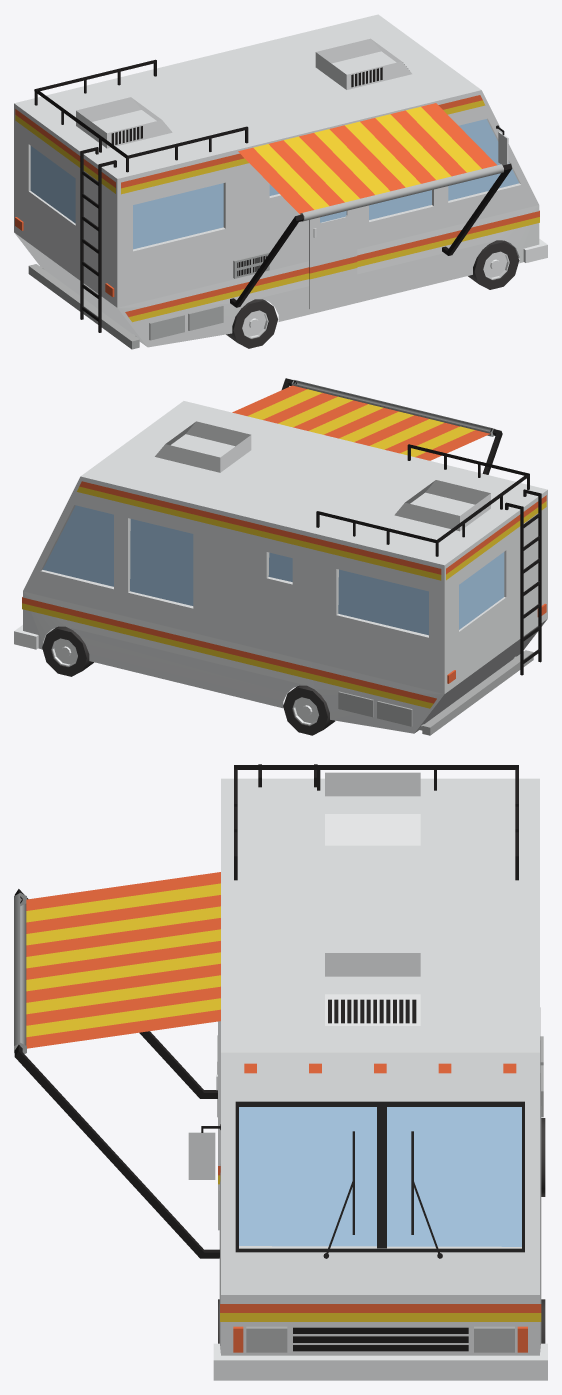
The model's file is M_fangche01.FBX.
3 renders of one model, top to bottom at view 1: azimuth 30°, elevation 25°; view 2: azimuth 150°, elevation 25°; view 3: azimuth 270°, elevation 25°, orthographic. The views are drawn at different scales.
Visible parts, largest first — view 1: M_fangche01_01, M_fangche01_02, M_fangche01_03; view 2: M_fangche01_01, M_fangche01_02, M_fangche01_03; view 3: M_fangche01_01, M_fangche01_02, M_fangche01_03.
Boxes of the visible parts, left/top/right/bottom form: M_fangche01_01: left=14, top=14, right=547, bottom=349; M_fangche01_02: left=30, top=119, right=518, bottom=249; M_fangche01_03: left=34, top=59, right=512, bottom=338; M_fangche01_01: left=14, top=385, right=547, bottom=735; M_fangche01_02: left=43, top=505, right=504, bottom=635; M_fangche01_03: left=51, top=378, right=541, bottom=725; M_fangche01_01: left=26, top=772, right=547, bottom=1380; M_fangche01_02: left=239, top=1107, right=521, bottom=1246; M_fangche01_03: left=14, top=764, right=518, bottom=1258.
Size of the model in its own units: 13.22 by 6.31 by 9.14.
